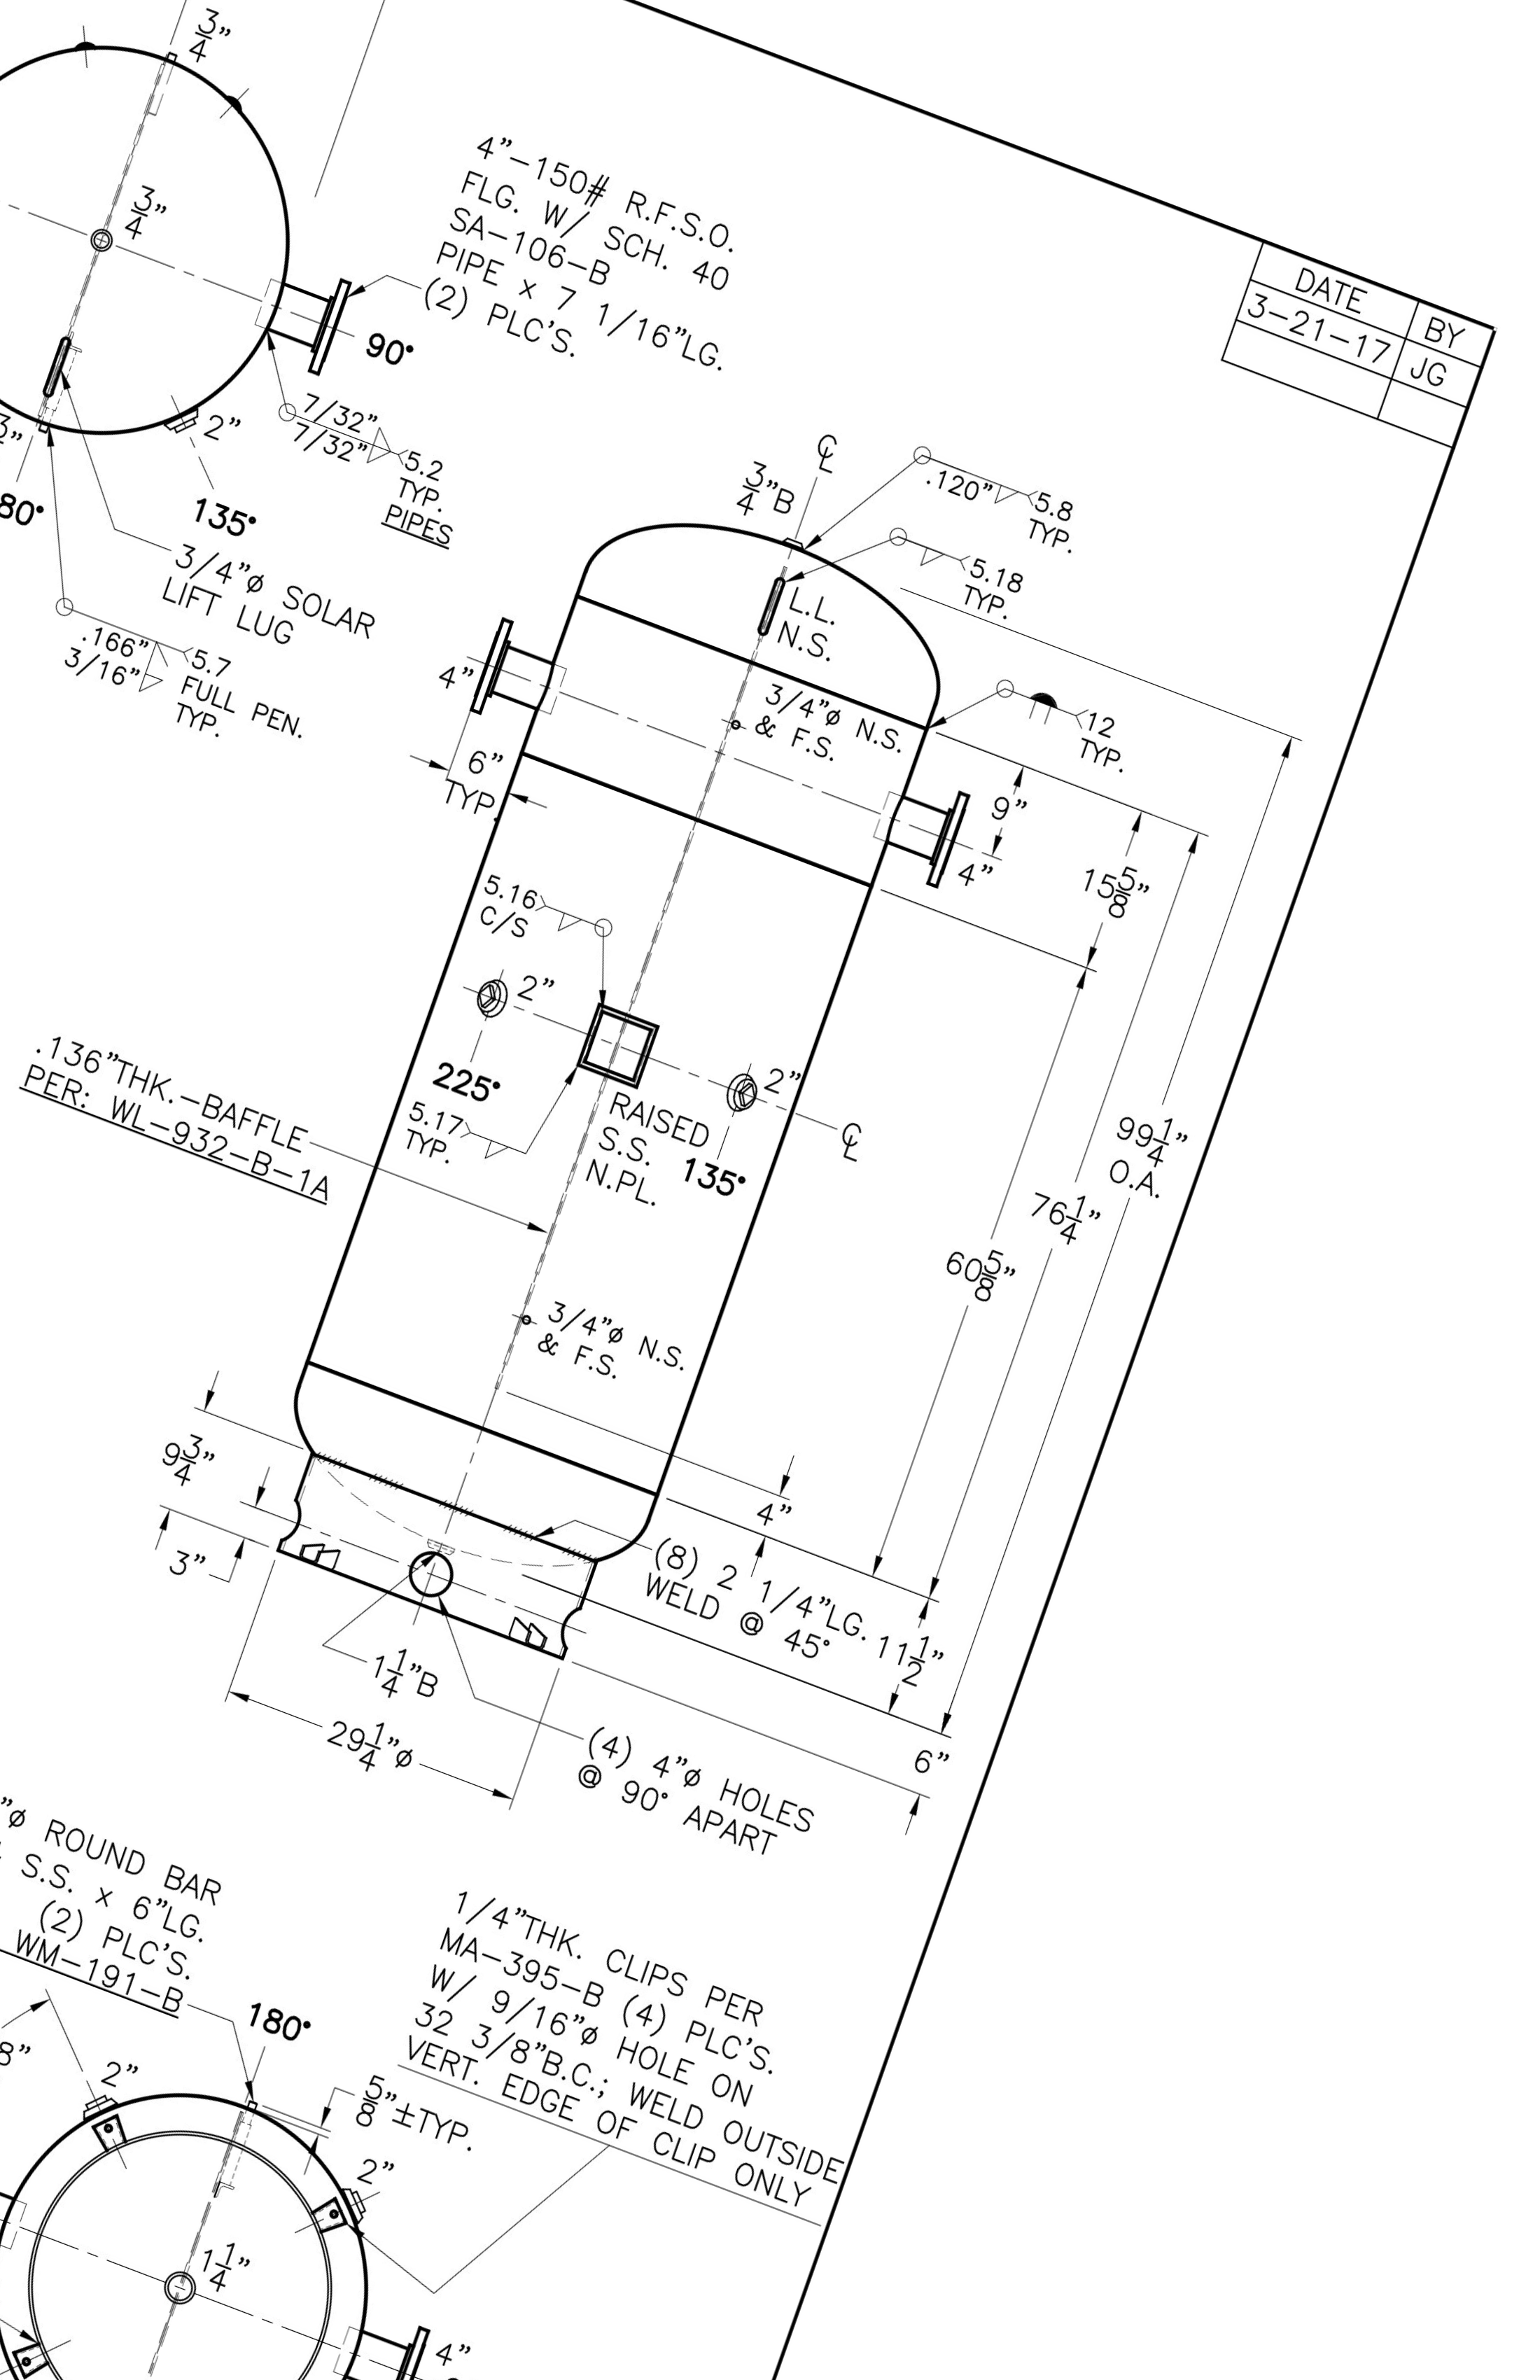Nozzle: (898, 762, 999, 964), (458, 597, 565, 777), (265, 253, 369, 416), (349, 2312, 449, 2380)
